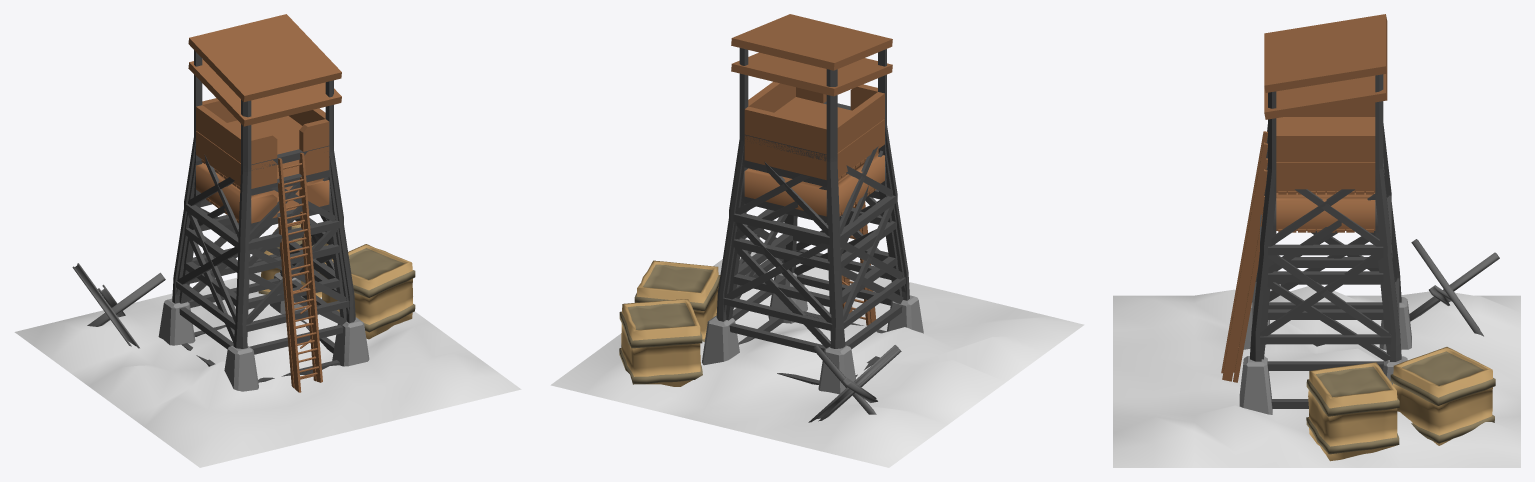
The model's file is watchtower_tiers.fbx.
The picture shows the model from 3 angles, left to right: view 1: azimuth 30°, elevation 25°; view 2: azimuth 150°, elevation 25°; view 3: azimuth 270°, elevation 25°; orthographic projection. The views are drawn at different scales.
Visible parts, largest first — view 1: snow, watchtower_t3, watchtower_t2, watchtower_t1; view 2: watchtower_t3, snow, watchtower_t2, watchtower_t1; view 3: watchtower_t3, snow, watchtower_t2, watchtower_t1.
Boxes of the visible parts, x1,y1,x2,y2 form: snow: (14, 272, 521, 467); watchtower_t3: (72, 14, 415, 392); watchtower_t2: (176, 59, 348, 390); watchtower_t1: (179, 163, 346, 388); watchtower_t3: (619, 14, 923, 422); snow: (550, 252, 1084, 467); watchtower_t2: (724, 52, 905, 352); watchtower_t1: (726, 152, 901, 384); watchtower_t3: (1221, 14, 1499, 461); snow: (1113, 286, 1520, 467); watchtower_t2: (1227, 73, 1397, 381); watchtower_t1: (1233, 193, 1390, 408).
Bounding box in the file's own units: 234 × 219 × 234.
